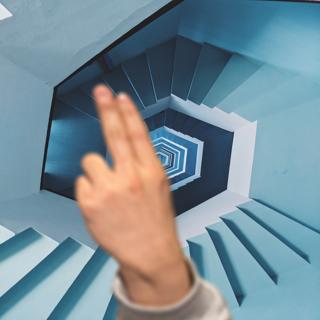DHAVE: (63, 76, 184, 276)
